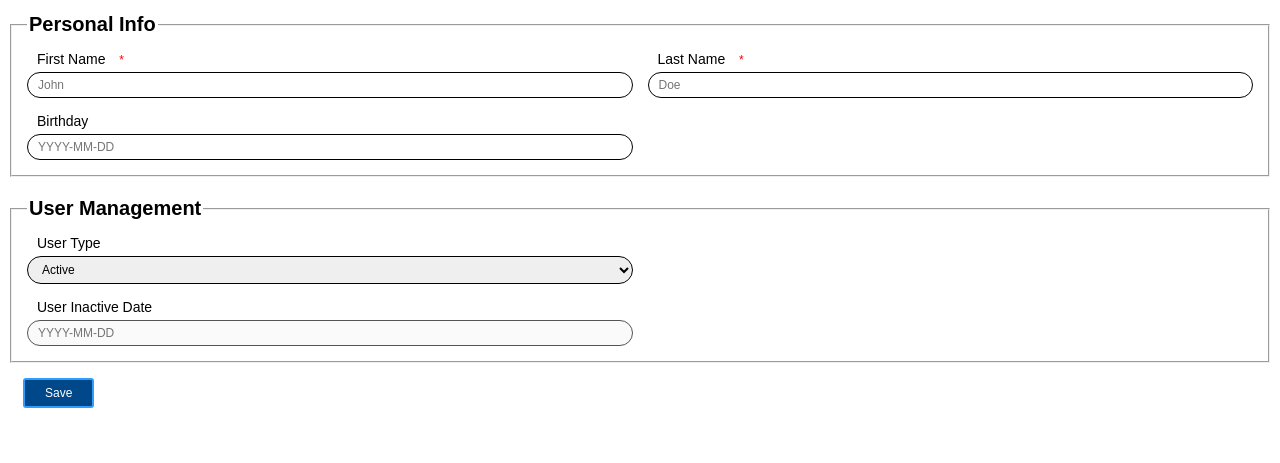
Scenario: test FormTaskComplete › test birthday range
Type "2023-12-12" into the field labelled "Birthday" at (330, 147), box left=27, top=134, right=632, bottom=160
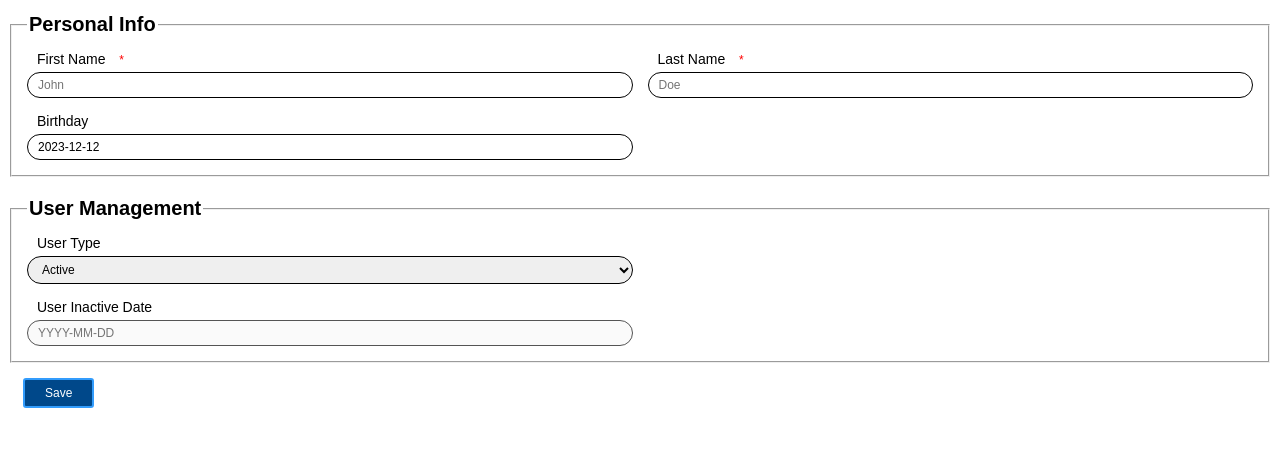
Click the button "Save" at (59, 393), box left=23, top=378, right=94, bottom=408
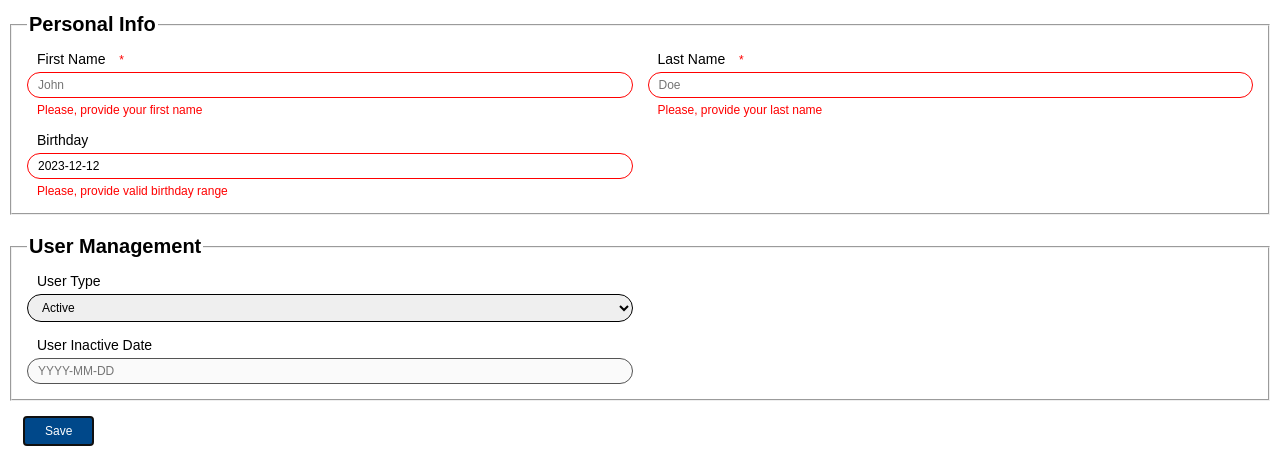
Result: the text "Please, provide valid birthday range" is shown at left=37, top=184, right=228, bottom=198
